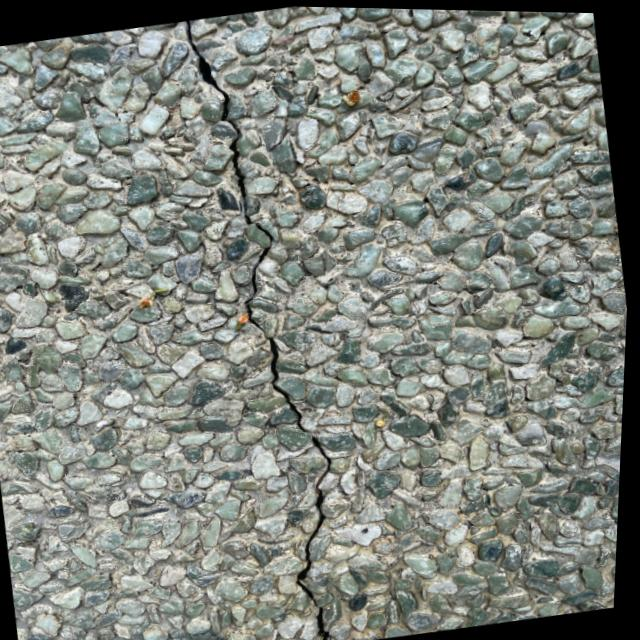Crack: (164, 3, 417, 640)
